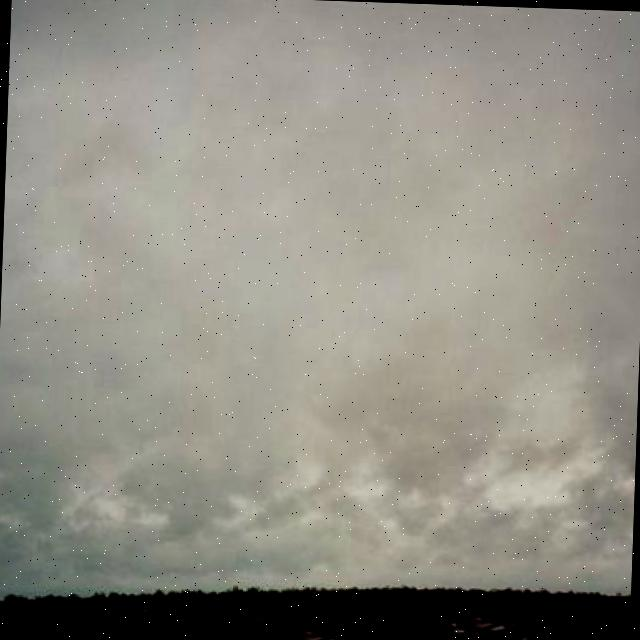Ns: (1, 20, 640, 566)
